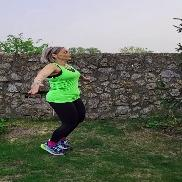jumping_jacks: (31, 38, 99, 158)
